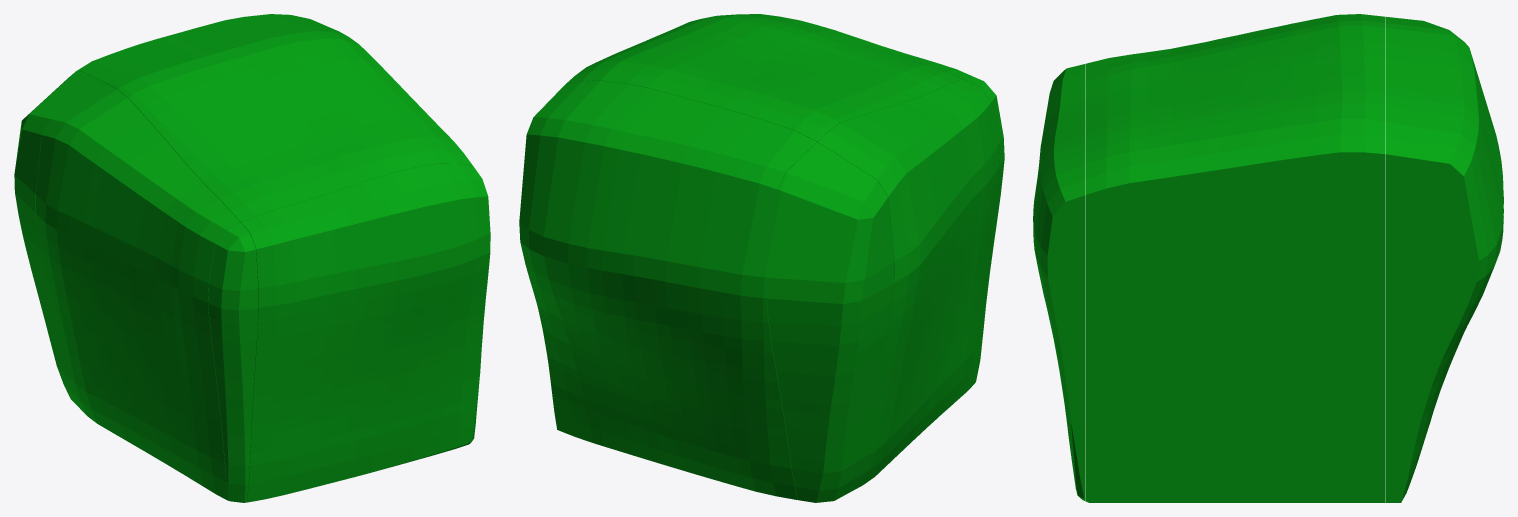
Rendered from 4by10beveledsubdivided.008.fbx.
The picture shows the model from 3 angles, left to right: view 1: azimuth 30°, elevation 25°; view 2: azimuth 150°, elevation 25°; view 3: azimuth 270°, elevation 25°; orthographic projection. The views are drawn at different scales.
Parts seen in each view (by area): view 1: 4by10beveledsubdivided.008; view 2: 4by10beveledsubdivided.008; view 3: 4by10beveledsubdivided.008.
Boxes of the visible parts, x1,y1,x2,y2 form: 4by10beveledsubdivided.008: [14, 14, 490, 502]; 4by10beveledsubdivided.008: [519, 14, 1004, 502]; 4by10beveledsubdivided.008: [1033, 14, 1503, 502].
Size of the model in its own units: 263 by 272 by 314.
